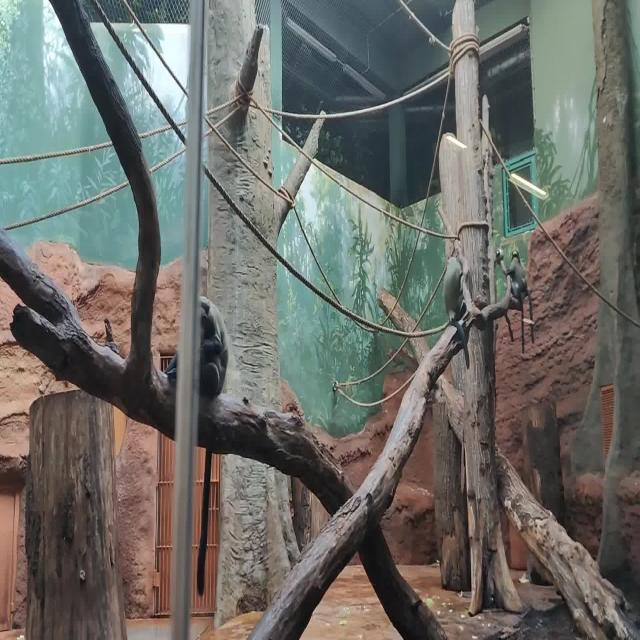monkey: (165, 295, 229, 598), (444, 257, 470, 370), (505, 250, 535, 344)
